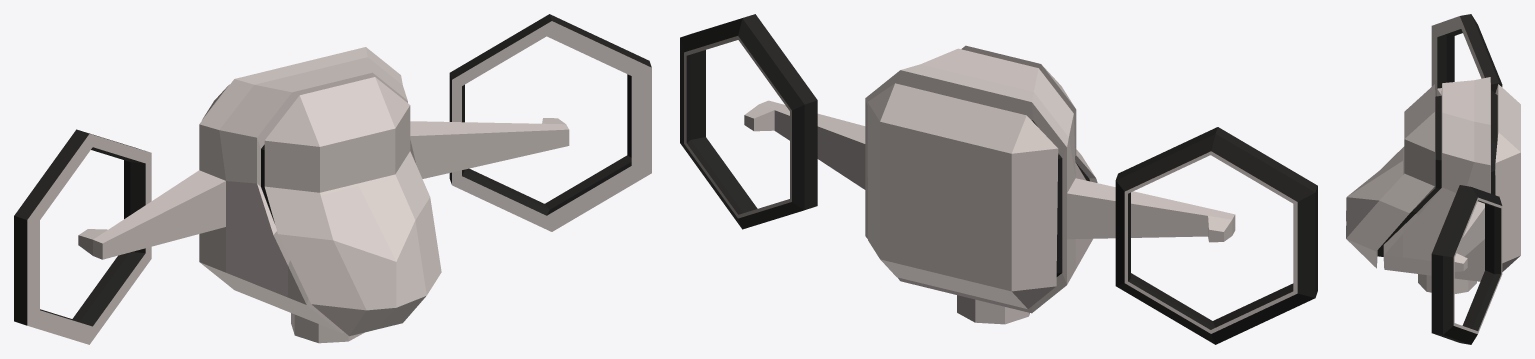
File: droneTarget.fbx
The picture shows the model from 3 angles, left to right: view 1: azimuth 30°, elevation 25°; view 2: azimuth 150°, elevation 25°; view 3: azimuth 270°, elevation 25°; orthographic projection. The views are drawn at different scales.
Parts seen in each view (by area): view 1: Body, LowerBody, BotorBladeR, BotorBladeL, BotorBladeArmR, BotorBladeArmL, Eye; view 2: Body, BotorBladeL, BotorBladeR, BotorBladeArmL, BotorBladeArmR, Eye, BotorBladeConnectorR, BotorBladeConnectorL; view 3: Body, BotorBladeR, LowerBody, BotorBladeL, BotorBladeArmR, Eye, BotorBladeConnectorR.
Part boxes in pixels (box(x1,y1,x2,y2)): Body: box(199, 47, 432, 325); LowerBody: box(285, 177, 441, 336); BotorBladeR: box(449, 14, 651, 231); BotorBladeL: box(14, 129, 151, 344); BotorBladeArmR: box(410, 121, 569, 178); BotorBladeArmL: box(93, 170, 225, 259); Eye: box(291, 313, 364, 343); Body: box(865, 45, 1097, 313); BotorBladeL: box(1115, 127, 1317, 344); BotorBladeR: box(680, 14, 817, 229); BotorBladeArmL: box(1067, 178, 1235, 239); BotorBladeArmR: box(759, 100, 865, 189); Eye: box(957, 295, 1029, 324); BotorBladeConnectorR: box(744, 104, 774, 131); BotorBladeConnectorL: box(1208, 216, 1232, 242); Body: box(1403, 77, 1520, 281); BotorBladeR: box(1431, 185, 1502, 344); LowerBody: box(1346, 148, 1402, 271); BotorBladeL: box(1431, 14, 1502, 96); BotorBladeArmR: box(1456, 201, 1484, 256); Eye: box(1418, 274, 1476, 293); BotorBladeConnectorR: box(1454, 253, 1467, 271).
Size of the model in its own units: 630 by 234 by 201.
Materials: 2 (2 with a texture image).
